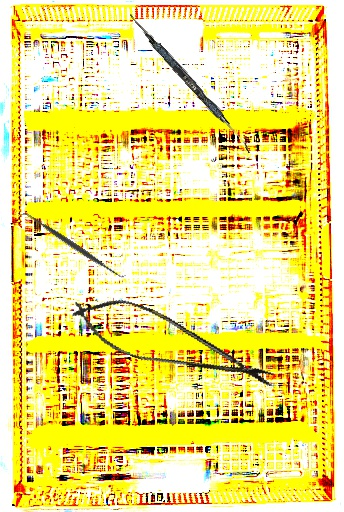Micro Scissor: (61, 283, 285, 404)
Spatula Surgical: (124, 12, 257, 154), (17, 204, 128, 286)
